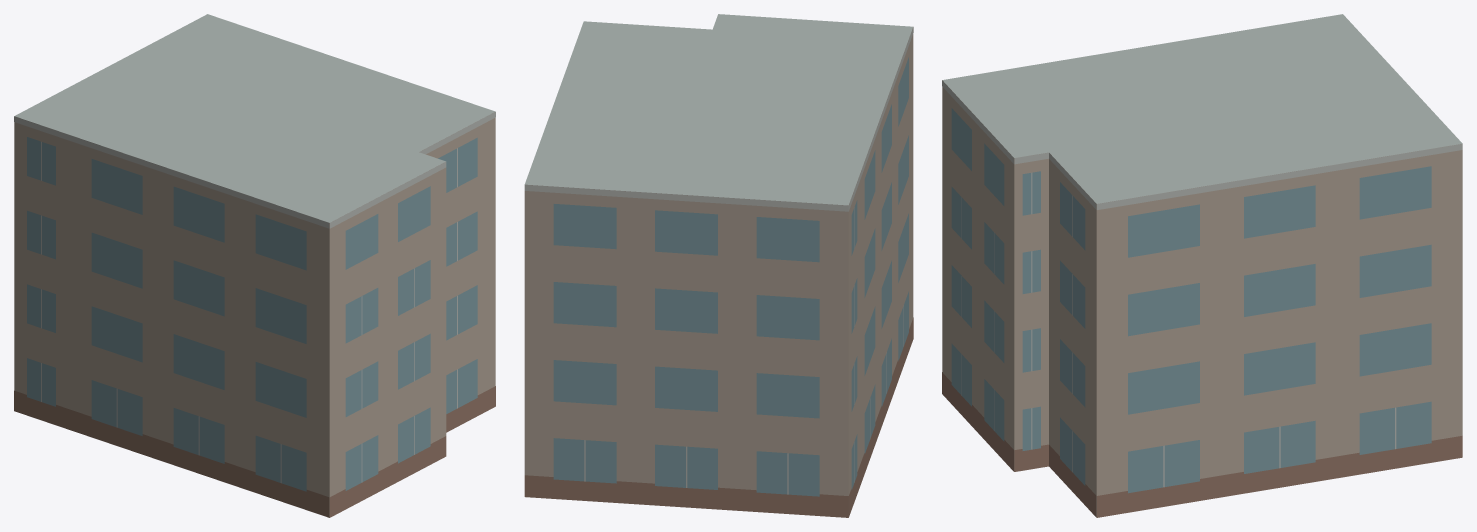
File: residential-fe992718-5d28-4d90-ab2e-648c3d6a91d8.glb
The picture shows the model from 3 angles, left to right: view 1: azimuth 30°, elevation 25°; view 2: azimuth 150°, elevation 25°; view 3: azimuth 270°, elevation 25°; orthographic projection. The views are drawn at different scales.
Parts seen in each view (by area): view 1: residential-fe992718-5d28-4d90-ab2e-648c3d6a91d8.tmp; view 2: residential-fe992718-5d28-4d90-ab2e-648c3d6a91d8.tmp; view 3: residential-fe992718-5d28-4d90-ab2e-648c3d6a91d8.tmp.
Part boxes in pixels (x1,y1,x2,y2): residential-fe992718-5d28-4d90-ab2e-648c3d6a91d8.tmp: (14, 14, 495, 517); residential-fe992718-5d28-4d90-ab2e-648c3d6a91d8.tmp: (524, 14, 913, 517); residential-fe992718-5d28-4d90-ab2e-648c3d6a91d8.tmp: (942, 14, 1462, 517).
Bounding box in the file's own units: 15.84 × 12.2 × 18.35.
